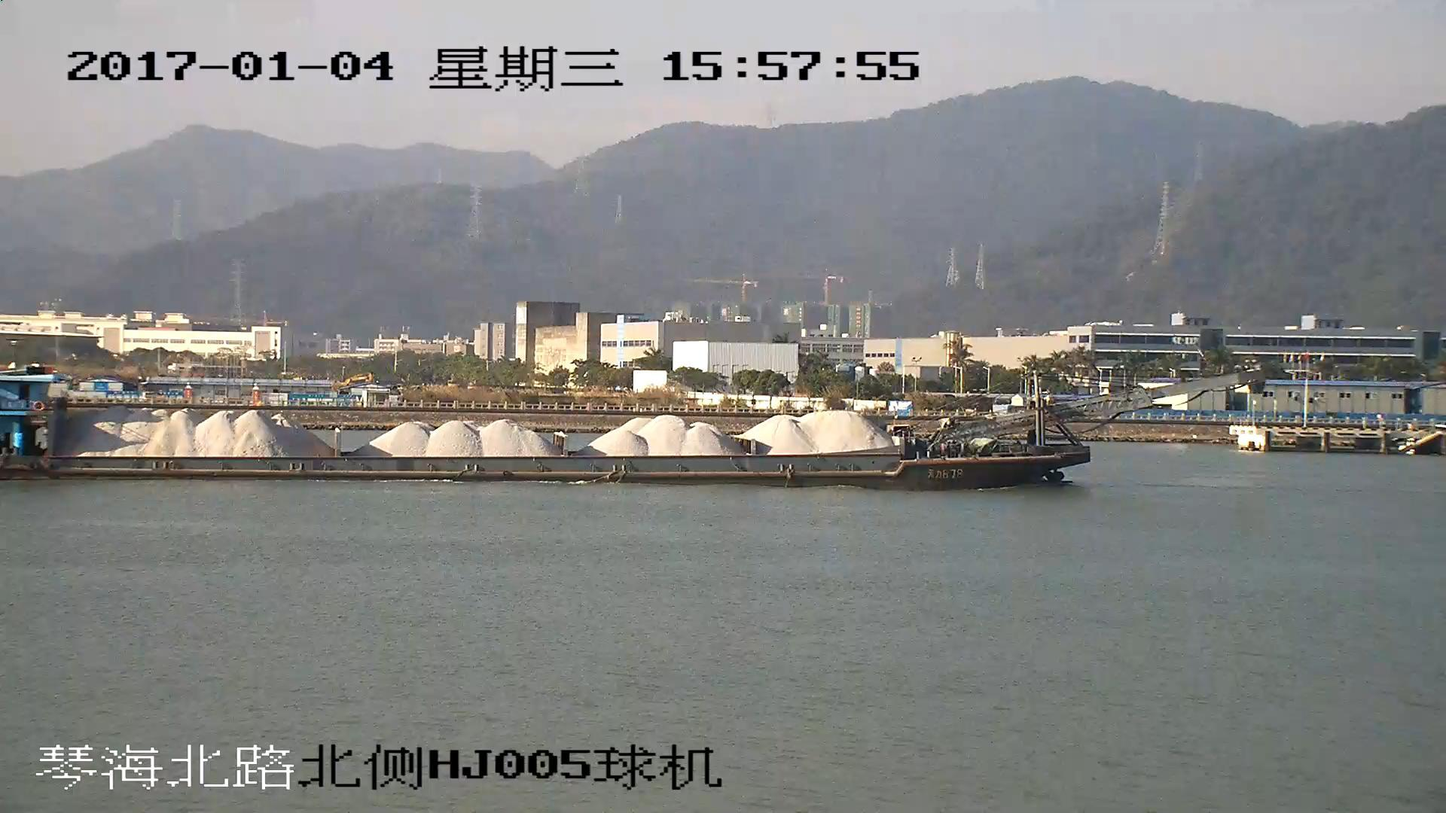ore carrier: (0, 367, 1255, 487)
